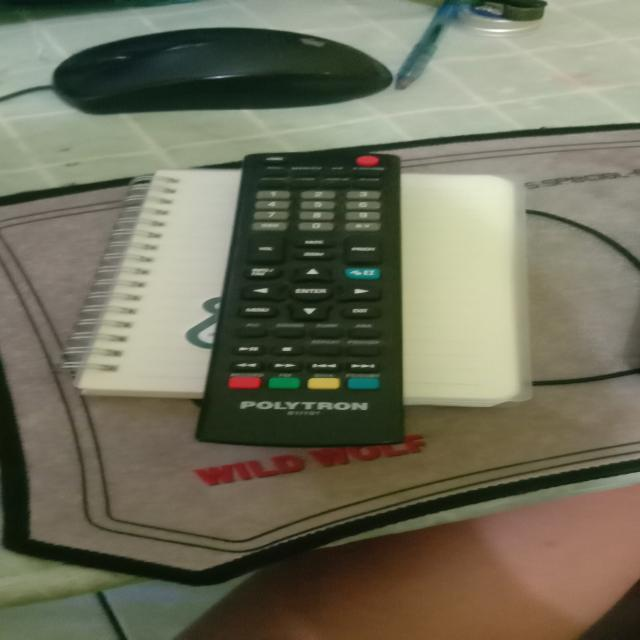remote: (184, 148, 423, 455)
